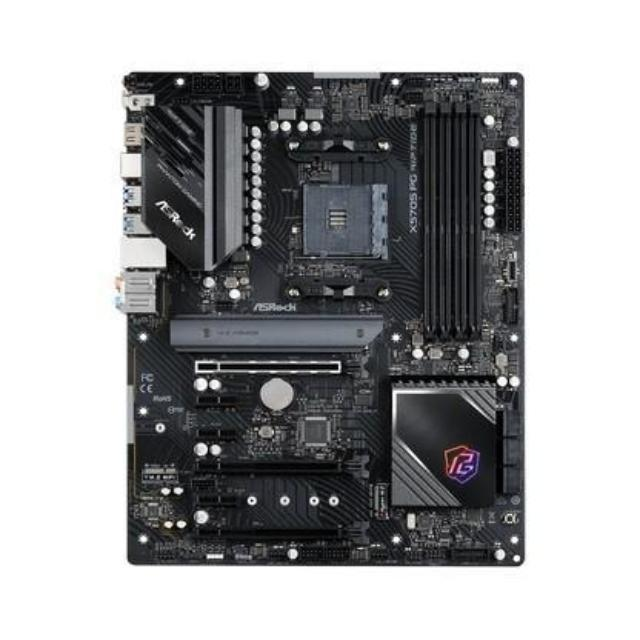Mainboard: (113, 54, 535, 583)
